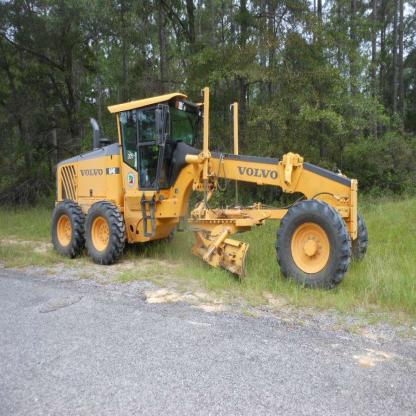bull_dozer/loader/grader: (46, 90, 368, 302)
